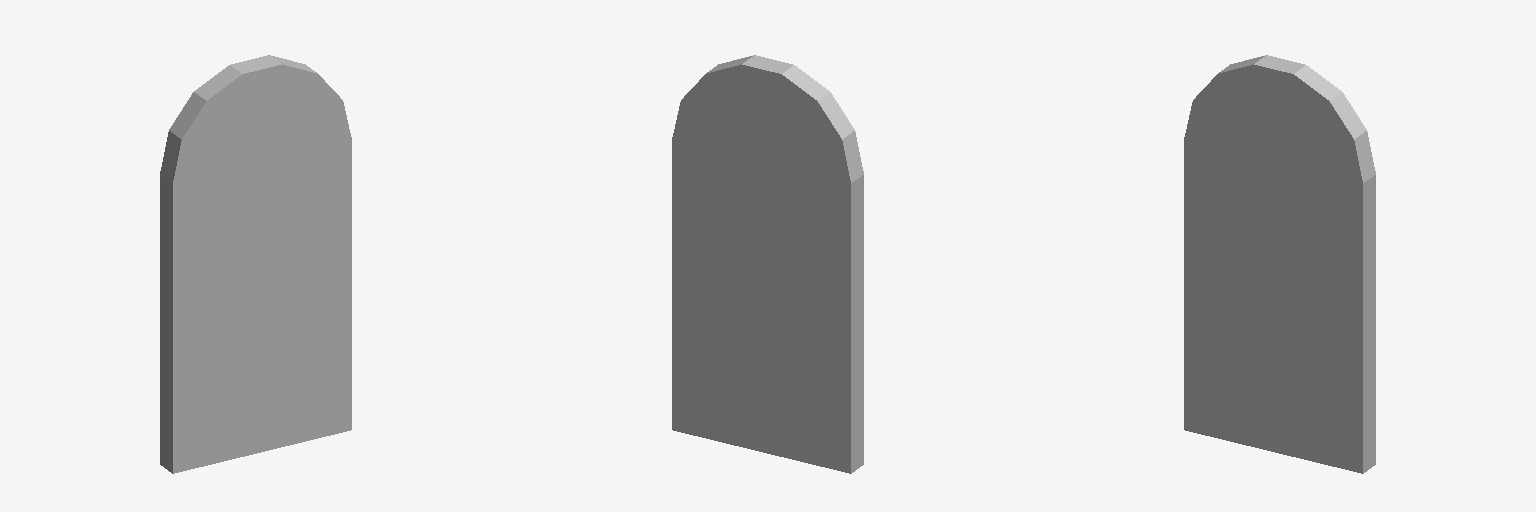
File: sm_hallway_window_01.obj
3 views of the same model, side by side, from view 1: azimuth 30°, elevation 25°; view 2: azimuth 150°, elevation 25°; view 3: azimuth 330°, elevation 25° (orthographic).
Parts seen in each view (by area): view 1: Cylinder.003; view 2: Cylinder.003; view 3: Cylinder.003.
Part boxes in pixels (bbox=[...]): Cylinder.003: bbox=[160, 55, 351, 473]; Cylinder.003: bbox=[672, 55, 863, 473]; Cylinder.003: bbox=[1184, 55, 1375, 473].
Size of the model in its own units: 3.03 by 6.18 by 0.3779.